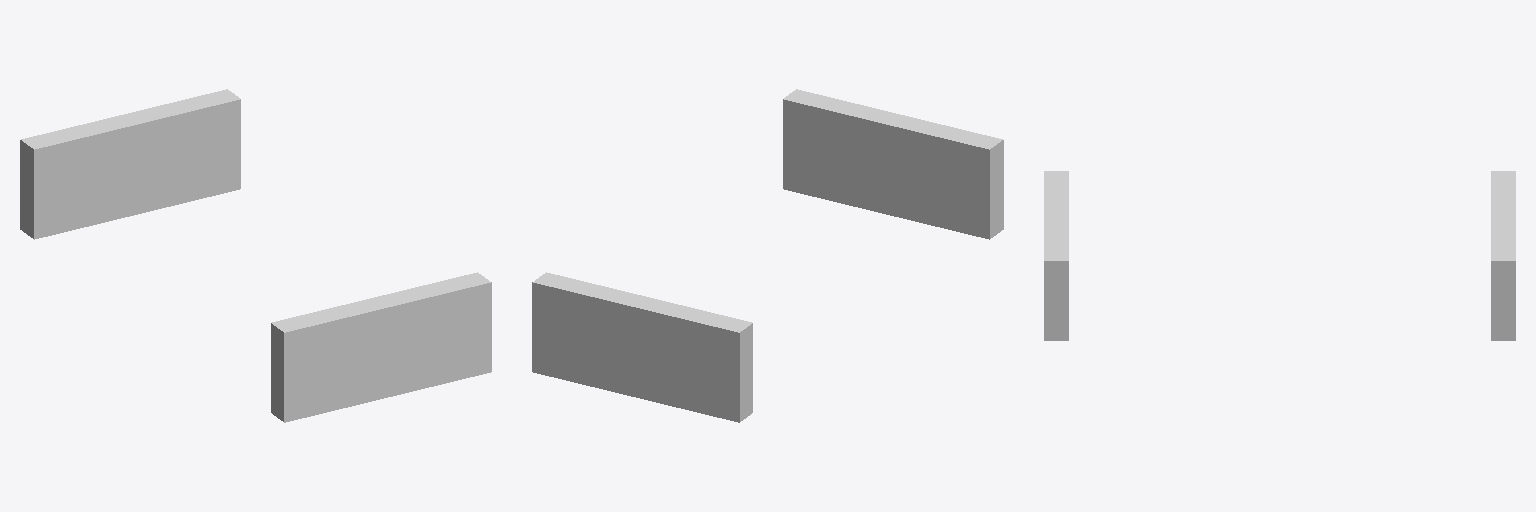
The robot description file, URDF, robot "2f140":
<robot name="2f140">
    <link name="robotiq_arg2f_base_link">
        <inertial>
            <origin rpy="0 0 0" xyz="8.625E-08 -4.6583E-06 0.03145"/>
            <mass value="0.22652"/>
            <inertia ixx="0.00020005" ixy="-4.2442E-10" ixz="-2.9069E-10" iyy="0.00017832" iyz="-3.4402E-08"
                     izz="0.00013478"/>
        </inertial>
        <visual>
            <origin rpy="0 0 0" xyz="0 0 0"/>
            <geometry>
                <mesh filename="package://2f140_urdf_pkg/urdfs/robots/meshes/robotiq_2f140/visual/robotiq_arg2f_base_link.stl"/>
            </geometry>
            <material name="">
                <color rgba="0.1 0.1 0.1 1"/>
            </material>
        </visual>
        <collision>
            <origin rpy="0 0 0" xyz="0 0 0"/>
            <geometry>
                <mesh filename="package://2f140_urdf_pkg/urdfs/robots/meshes/robotiq_2f140/collision/robotiq_arg2f_base_link.stl"/>
            </geometry>
        </collision>
    </link>
    <link name="robotiq_arg2f_coupling">
        <inertial>
            <origin rpy="1.5 1.5 0" xyz="0 0 0"/>
            <mass value="0.05"/>
            <inertia ixx="2E-06" ixy="-4E-10" ixz="-2E-10" iyy="2E-06" iyz="-3E-08" izz="2E-06"/>
        </inertial>
        <visual>
            <origin rpy="1.5 1.5 0" xyz="0 0 0"/>
            <geometry>
                <mesh filename="package://2f140_urdf_pkg/urdfs/robots/meshes/robotiq_2f140/visual/robotiq_arg2f_coupling.stl" scale="0.001 0.001 0.001"/>
            </geometry>
            <material name="">
                <color rgba="0.1 0.1 0.1 1"/>
            </material>
        </visual>
        <collision>
            <origin rpy="1.5 1.5 0" xyz="0 0 0"/>
            <geometry>
                <mesh filename="package://2f140_urdf_pkg/urdfs/robots/meshes/robotiq_2f140/collision/robotiq_arg2f_coupling.stl" scale="0.001 0.001 0.001"/>
            </geometry>
        </collision>
    </link>
    <link name="left_outer_knuckle">
        <inertial>
            <origin rpy="0 0 0" xyz="-0.000200000000003065 0.0199435877845359 0.0292245259211331"/>
            <mass value="0.00853198276973456"/>
            <inertia ixx="2.89328108496468E-06" ixy="-1.57935047237397E-19" ixz="-1.93980378593255E-19"
                     iyy="1.86719750325683E-06" iyz="-1.21858577871576E-06" izz="1.21905238907251E-06"/>
        </inertial>
        <visual>
            <origin rpy="0 0 0" xyz="0 0 0"/>
            <geometry>
                <mesh filename="package://2f140_urdf_pkg/urdfs/robots/meshes/robotiq_2f140/visual/robotiq_arg2f_140_outer_knuckle.stl"/>
            </geometry>
            <material name="">
                <color rgba="0.792156862745098 0.819607843137255 0.933333333333333 1"/>
            </material>
        </visual>
        <collision>
            <origin rpy="0 0 0" xyz="0 0 0"/>
            <geometry>
                <mesh filename="package://2f140_urdf_pkg/urdfs/robots/meshes/robotiq_2f140/collision/robotiq_arg2f_140_outer_knuckle.stl"/>
            </geometry>
        </collision>
    </link>
    <link name="left_outer_finger">
        <inertial>
            <origin rpy="0 0 0" xyz="0.00030115855001899 0.0373907951953854 -0.0208027427000385"/>
            <mass value="0.022614240507152"/>
            <inertia ixx="1.52518312458174E-05" ixy="9.76583423954399E-10" ixz="-5.43838577022588E-10"
                     iyy="6.17694243867776E-06" iyz="6.78636130740228E-06" izz="1.16494917907219E-05"/>
        </inertial>
        <visual>
            <origin rpy="0 0 0" xyz="0 0 0"/>
            <geometry>
                <mesh filename="package://2f140_urdf_pkg/urdfs/robots/meshes/robotiq_2f140/visual/robotiq_arg2f_140_outer_finger.stl"/>
            </geometry>
            <material name="">
                <color rgba="0.1 0.1 0.1 1"/>
            </material>
        </visual>
        <collision>
            <origin rpy="0 0 0" xyz="0 0 0"/>
            <geometry>
                <mesh filename="package://2f140_urdf_pkg/urdfs/robots/meshes/robotiq_2f140/collision/robotiq_arg2f_140_outer_finger.stl"/>
            </geometry>
        </collision>
    </link>
    <link name="left_inner_finger">
        <inertial>
            <origin rpy="0 0 0" xyz="0.000299999999999317 0.0160078233491243 -0.0136945669206257"/>
            <mass value="0.0104003125914103"/>
            <inertia ixx="2.71909453810972E-06" ixy="1.35402465472579E-21" ixz="-7.1817349065269E-22"
                     iyy="7.69100314106116E-07" iyz="6.74715432769696E-07" izz="2.30315190420171E-06"/>
        </inertial>
        <visual>
            <origin rpy="0 0 0" xyz="0 0 0"/>
            <geometry>
                <mesh filename="package://2f140_urdf_pkg/urdfs/robots/meshes/robotiq_2f140/visual/robotiq_arg2f_140_inner_finger.stl"/>
            </geometry>
            <material name="">
                <color rgba="0.1 0.1 0.1 1"/>
            </material>
        </visual>
        <collision>
            <origin rpy="0 0 0" xyz="0 0 0"/>
            <geometry>
                <mesh filename="package://2f140_urdf_pkg/urdfs/robots/meshes/robotiq_2f140/collision/robotiq_arg2f_140_inner_finger.stl"/>
            </geometry>
        </collision>
    </link>
    <link name="left_inner_finger_pad">
        <visual>
            <origin rpy="0 0 0" xyz="0 0 0"/>
            <geometry>
                <box size="0.027 0.065 0.0075"/>
            </geometry>
            <material name="">
                <color rgba="0.9 0.9 0.9 1"/>
            </material>
        </visual>
        <collision>
            <origin rpy="0 0 0" xyz="0 0 0"/>
            <geometry>
                <box size="0.03 0.07 0.0075"/>
            </geometry>
            <material name="">
                <color rgba="0.9 0.0 0.0 1"/>
            </material>
        </collision>
    </link>
    <link name="left_inner_knuckle">
        <inertial>
            <origin rpy="0 0 0" xyz="0.000123011831763771 0.0507850843201817 0.00103968640075166"/>
            <mass value="0.0271177346495152"/>
            <inertia ixx="2.61910379223783E-05" ixy="-2.43616858946494E-07" ixz="-6.37789906117123E-09"
                     iyy="2.8270243746167E-06" iyz="-5.37200748039765E-07" izz="2.83695868220296E-05"/>
        </inertial>
        <visual>
            <origin rpy="0 0 0" xyz="0 0 0"/>
            <geometry>
                <mesh filename="package://2f140_urdf_pkg/urdfs/robots/meshes/robotiq_2f140/visual/robotiq_arg2f_140_inner_knuckle.stl"/>
            </geometry>
            <material name="">
                <color rgba="0.1 0.1 0.1 1"/>
            </material>
        </visual>
        <collision>
            <origin rpy="0 0 0" xyz="0 0 0"/>
            <geometry>
                <mesh filename="package://2f140_urdf_pkg/urdfs/robots/meshes/robotiq_2f140/collision/robotiq_arg2f_140_inner_knuckle.stl"/>
            </geometry>
        </collision>
    </link>
    <link name="right_outer_knuckle">
        <inertial>
            <origin rpy="0 0 0" xyz="-0.000200000000003065 0.0199435877845359 0.0292245259211331"/>
            <mass value="0.00853198276973456"/>
            <inertia ixx="2.89328108496468E-06" ixy="-1.57935047237397E-19" ixz="-1.93980378593255E-19"
                     iyy="1.86719750325683E-06" iyz="-1.21858577871576E-06" izz="1.21905238907251E-06"/>
        </inertial>
        <visual>
            <origin rpy="0 0 0" xyz="0 0 0"/>
            <geometry>
                <mesh filename="package://2f140_urdf_pkg/urdfs/robots/meshes/robotiq_2f140/visual/robotiq_arg2f_140_outer_knuckle.stl"/>
            </geometry>
            <material name="">
                <color rgba="0.792156862745098 0.819607843137255 0.933333333333333 1"/>
            </material>
        </visual>
        <collision>
            <origin rpy="0 0 0" xyz="0 0 0"/>
            <geometry>
                <mesh filename="package://2f140_urdf_pkg/urdfs/robots/meshes/robotiq_2f140/collision/robotiq_arg2f_140_outer_knuckle.stl"/>
            </geometry>
        </collision>
    </link>
    <link name="right_outer_finger">
        <inertial>
            <origin rpy="0 0 0" xyz="0.00030115855001899 0.0373907951953854 -0.0208027427000385"/>
            <mass value="0.022614240507152"/>
            <inertia ixx="1.52518312458174E-05" ixy="9.76583423954399E-10" ixz="-5.43838577022588E-10"
                     iyy="6.17694243867776E-06" iyz="6.78636130740228E-06" izz="1.16494917907219E-05"/>
        </inertial>
        <visual>
            <origin rpy="0 0 0" xyz="0 0 0"/>
            <geometry>
                <mesh filename="package://2f140_urdf_pkg/urdfs/robots/meshes/robotiq_2f140/visual/robotiq_arg2f_140_outer_finger.stl"/>
            </geometry>
            <material name="">
                <color rgba="0.1 0.1 0.1 1"/>
            </material>
        </visual>
        <collision>
            <origin rpy="0 0 0" xyz="0 0 0"/>
            <geometry>
                <mesh filename="package://2f140_urdf_pkg/urdfs/robots/meshes/robotiq_2f140/collision/robotiq_arg2f_140_outer_finger.stl"/>
            </geometry>
        </collision>
    </link>
    <link name="right_inner_finger">
        <inertial>
            <origin rpy="0 0 0" xyz="0.000299999999999317 0.0160078233491243 -0.0136945669206257"/>
            <mass value="0.0104003125914103"/>
            <inertia ixx="2.71909453810972E-06" ixy="1.35402465472579E-21" ixz="-7.1817349065269E-22"
                     iyy="7.69100314106116E-07" iyz="6.74715432769696E-07" izz="2.30315190420171E-06"/>
        </inertial>
        <visual>
            <origin rpy="0 0 0" xyz="0 0 0"/>
            <geometry>
                <mesh filename="package://2f140_urdf_pkg/urdfs/robots/meshes/robotiq_2f140/visual/robotiq_arg2f_140_inner_finger.stl"/>
            </geometry>
            <material name="">
                <color rgba="0.1 0.1 0.1 1"/>
            </material>
        </visual>
        <collision>
            <origin rpy="0 0 0" xyz="0 0 0"/>
            <geometry>
                <mesh filename="package://2f140_urdf_pkg/urdfs/robots/meshes/robotiq_2f140/collision/robotiq_arg2f_140_inner_finger.stl"/>
            </geometry>
        </collision>
    </link>
    <link name="right_inner_finger_pad">
        <visual>
            <origin rpy="0 0 0" xyz="0 0 0"/>
            <geometry>
                <box size="0.027 0.065 0.0075"/>
            </geometry>
            <material name="">
                <color rgba="0.9 0.9 0.9 1"/>
            </material>
        </visual>
        <collision>
            <origin rpy="0 0 0" xyz="0 0 0"/>
            <geometry>
                <box size="0.03 0.07 0.0075"/>
            </geometry>
            <material name="">
                <color rgba="0.9 0.0 0.0 1"/>
            </material>
        </collision>
    </link>
    <link name="right_inner_knuckle">
        <inertial>
            <origin rpy="0 0 0" xyz="0.000123011831763771 0.0507850843201817 0.00103968640075166"/>
            <mass value="0.0271177346495152"/>
            <inertia ixx="2.61910379223783E-05" ixy="-2.43616858946494E-07" ixz="-6.37789906117123E-09"
                     iyy="2.8270243746167E-06" iyz="-5.37200748039765E-07" izz="2.83695868220296E-05"/>
        </inertial>
        <visual>
            <origin rpy="0 0 0" xyz="0 0 0"/>
            <geometry>
                <mesh filename="package://2f140_urdf_pkg/urdfs/robots/meshes/robotiq_2f140/visual/robotiq_arg2f_140_inner_knuckle.stl"/>
            </geometry>
            <material name="">
                <color rgba="0.1 0.1 0.1 1"/>
            </material>
        </visual>
        <collision>
            <origin rpy="0 0 0" xyz="0 0 0"/>
            <geometry>
                <mesh filename="package://2f140_urdf_pkg/urdfs/robots/meshes/robotiq_2f140/collision/robotiq_arg2f_140_inner_knuckle.stl"/>
            </geometry>
        </collision>
    </link>
    <joint name="finger_joint" type="revolute">
        <origin rpy="2.29579632679 0 0" xyz="0 -0.030601 0.054905"/>
        <parent link="robotiq_arg2f_base_link"/>
        <child link="left_outer_knuckle"/>
        <axis xyz="-1 0 0"/>
        <limit effort="1000" lower="0" upper="0.7" velocity="2.0"/>
    </joint>
    <joint name="left_outer_finger_joint" type="fixed">
        <origin rpy="0 0 0" xyz="0 0.01821998610742 0.0260018192872234"/>
        <parent link="left_outer_knuckle"/>
        <child link="left_outer_finger"/>
        <axis xyz="1 0 0"/>
    </joint>
    <joint name="left_inner_knuckle_joint" type="revolute">
        <origin rpy="2.29579632679 0 0.0" xyz="0 -0.0127 0.06142"/>
        <parent link="robotiq_arg2f_base_link"/>
        <child link="left_inner_knuckle"/>
        <axis xyz="1 0 0"/>
        <limit effort="1000" lower="-0.8757" upper="0.8757" velocity="2.0"/>
        <mimic joint="finger_joint" multiplier="-1" offset="0"/>
    </joint>
    <joint name="left_inner_finger_joint" type="revolute">
        <origin rpy="-0.725 0 0" xyz="0 0.0817554015893473 -0.0282203446692936"/>
        <parent link="left_outer_finger"/>
        <child link="left_inner_finger"/>
        <axis xyz="1 0 0"/>
        <limit effort="1000" lower="-0.8757" upper="0.8757" velocity="2.0"/>
        <mimic joint="finger_joint" multiplier="1" offset="0"/>
    </joint>
    <joint name="left_inner_finger_pad_joint" type="fixed">
        <origin rpy="0 0 0" xyz="0 0.0457554015893473 -0.0272203446692936"/>
        <parent link="left_inner_finger"/>
        <child link="left_inner_finger_pad"/>
        <axis xyz="0 0 1"/>
    </joint>
    <joint name="right_outer_knuckle_joint" type="revolute">
        <origin rpy="2.29579632679 0 3.14159265359" xyz="0 0.030601 0.054905"/>
        <parent link="robotiq_arg2f_base_link"/>
        <child link="right_outer_knuckle"/>
        <axis xyz="1 0 0"/>
        <limit effort="1000" lower="-0.725" upper="0.725" velocity="2.0"/>
        <mimic joint="finger_joint" multiplier="-1" offset="0"/>
    </joint>
    <joint name="right_outer_finger_joint" type="fixed">
        <origin rpy="0 0 0" xyz="0 0.01821998610742 0.0260018192872234"/>
        <parent link="right_outer_knuckle"/>
        <child link="right_outer_finger"/>
        <axis xyz="1 0 0"/>
    </joint>
    <joint name="right_inner_knuckle_joint" type="revolute">
        <origin rpy="2.29579632679 0 -3.14159265359" xyz="0 0.0127 0.06142"/>
        <parent link="robotiq_arg2f_base_link"/>
        <child link="right_inner_knuckle"/>
        <axis xyz="1 0 0"/>
        <limit effort="1000" lower="-0.8757" upper="0.8757" velocity="2.0"/>
        <mimic joint="finger_joint" multiplier="-1" offset="0"/>
    </joint>
    <joint name="right_inner_finger_joint" type="revolute">
        <origin rpy="-0.725 0 0" xyz="0 0.0817554015893473 -0.0282203446692936"/>
        <parent link="right_outer_finger"/>
        <child link="right_inner_finger"/>
        <axis xyz="1 0 0"/>
        <limit effort="1000" lower="-0.8757" upper="0.8757" velocity="2.0"/>
        <mimic joint="finger_joint" multiplier="1" offset="0"/>
    </joint>
    <joint name="right_inner_finger_pad_joint" type="fixed">
        <origin rpy="0 0 0" xyz="0 0.0457554015893473 -0.0272203446692936"/>
        <parent link="right_inner_finger"/>
        <child link="right_inner_finger_pad"/>
        <axis xyz="0 0 1"/>
    </joint>
    <transmission name="finger_joint_trans">
        <type>transmission_interface/SimpleTransmission</type>
        <joint name="finger_joint">
            <hardwareInterface>hardware_interface/PositionJointInterface</hardwareInterface>
        </joint>
        <actuator name="finger_joint_motor">
            <mechanicalReduction>1</mechanicalReduction>
        </actuator>
    </transmission>
    <gazebo>
        <!-- loading plugin: mimic joints works in gazebo now-->
        <plugin filename="libroboticsgroup_gazebo_mimic_joint_plugin.so" name="mimic_robotiq_140_4">
            <joint>finger_joint</joint>
            <mimicJoint>right_outer_knuckle_joint</mimicJoint>
            <multiplier>-1.0</multiplier>
        </plugin>
        <plugin filename="libroboticsgroup_gazebo_mimic_joint_plugin.so" name="mimic_robotiq_140_2">
            <joint>finger_joint</joint>
            <mimicJoint>left_inner_finger_joint</mimicJoint>
            <multiplier>1.0</multiplier>
            <!--<offset>0.0</offset>-->
        </plugin>
        <plugin filename="libroboticsgroup_gazebo_mimic_joint_plugin.so" name="mimic_robotiq_140_1">
            <joint>finger_joint</joint>
            <mimicJoint>right_inner_finger_joint</mimicJoint>
            <multiplier>1.0</multiplier>
        </plugin>
        <plugin filename="libroboticsgroup_gazebo_mimic_joint_plugin.so" name="mimic_robotiq_140_3">
            <joint>finger_joint</joint>
            <mimicJoint>left_inner_knuckle_joint</mimicJoint>
            <multiplier>-1.0</multiplier>
        </plugin>
        <plugin filename="libroboticsgroup_gazebo_mimic_joint_plugin.so" name="mimic_robotiq_140_5">
            <joint>finger_joint</joint>
            <mimicJoint>right_inner_knuckle_joint</mimicJoint>
            <multiplier>-1.0</multiplier>
        </plugin>
    </gazebo>
    <joint name="base_coupling" type="fixed">
        <origin rpy="0 1.57079633 0" xyz="0 0 0"/>
        <parent link="robotiq_arg2f_coupling"/>
        <child link="robotiq_arg2f_base_link"/>
    </joint>
</robot>

--- Facts derived from the render (not from the file) ---
The picture shows the robot from 3 angles, left to right: view 1: azimuth 30°, elevation 25°; view 2: azimuth 150°, elevation 25°; view 3: azimuth 270°, elevation 25°; orthographic projection.
Robot: 2f140 — 12 links, 11 joints (6 revolute, 5 fixed); root link robotiq_arg2f_coupling; default pose: all joints at 0.
Visible links, largest first — view 1: left_inner_finger_pad, right_inner_finger_pad; view 2: left_inner_finger_pad, right_inner_finger_pad; view 3: left_inner_finger_pad, right_inner_finger_pad.
Boxes of the visible links, left/top/right/bottom form: left_inner_finger_pad: left=271, top=272, right=491, bottom=422; right_inner_finger_pad: left=20, top=89, right=240, bottom=239; left_inner_finger_pad: left=783, top=89, right=1003, bottom=239; right_inner_finger_pad: left=532, top=272, right=752, bottom=422; left_inner_finger_pad: left=1044, top=171, right=1068, bottom=340; right_inner_finger_pad: left=1491, top=171, right=1515, bottom=340.
Size in the robot's own frame: 0.065 by 0.1435 by 0.027 metres.
Meshes: 6 distinct files referenced, 0 mesh visuals loaded (none loaded); not drawn: 10 (reference not matched to a file when rendering).